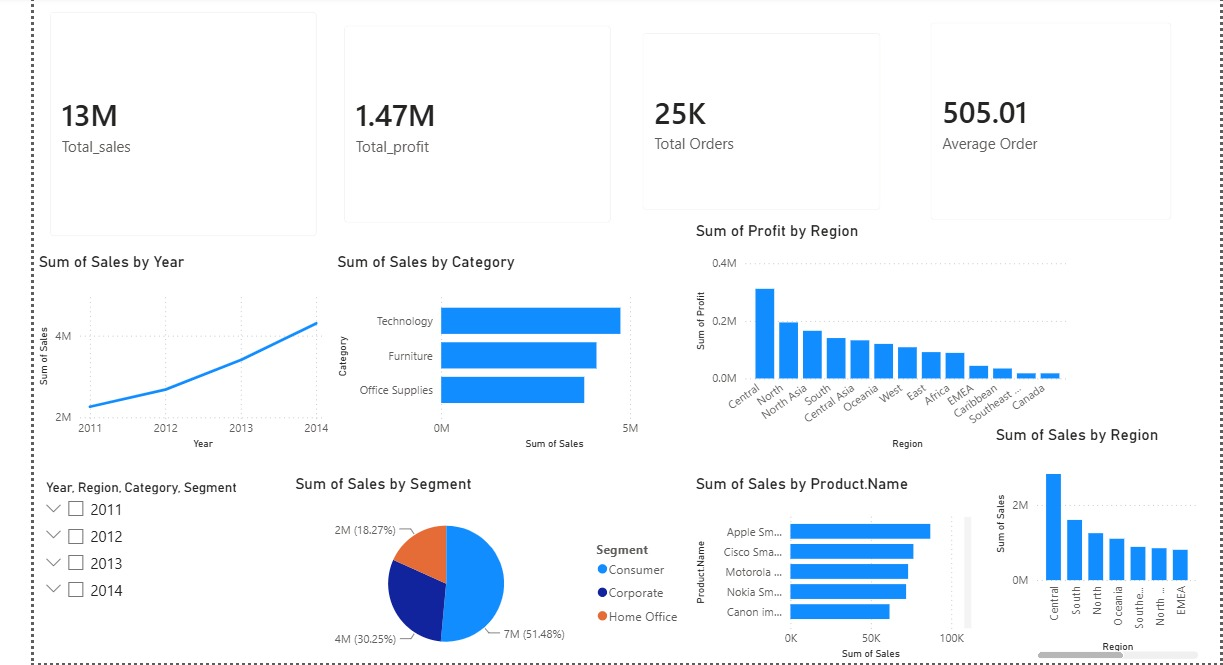

The page's visual inventory and layout, read from the dashboard file:
{"tool":"powerbi","page":{"name":"Page 1","canvas":[1280,720],"ordinal":0},"visuals":[{"type":"cardVisual","fields":{"Data":["superstore.Total_sales"]},"box":[0,0,322.2,276.9],"z":1},{"type":"cardVisual","fields":{"Data":["superstore.Total_profit"]},"box":[317.4,14.6,322.2,247.7],"z":2},{"type":"cardVisual","fields":{"Data":["superstore.Average Order"]},"box":[950.5,11.3,294.7,247.7],"z":3},{"type":"cardVisual","fields":{"Data":["superstore.Total Orders"]},"box":[639.6,22.7,291.5,225.1],"z":4},{"type":"lineChart","fields":{"Category":["superstore.Order.Date.Variation.Date Hierarchy.Year","superstore.Order.Date.Variation.Date Hierarchy.Quarter","superstore.Order.Date.Variation.Date Hierarchy.Month","superstore.Order.Date.Variation.Date Hierarchy.Day"],"Y":["Sum(superstore.Sales)"]},"box":[0,276.9,322.2,217],"z":5},{"type":"clusteredBarChart","fields":{"Category":["superstore.Category"],"Y":["Sum(superstore.Sales)"]},"box":[322.2,276.9,375.7,217],"z":6},{"type":"clusteredColumnChart","fields":{"Category":["superstore.Region"],"Y":["Sum(superstore.Profit)"]},"box":[709.2,242.9,412.9,251],"z":7},{"type":"pieChart","fields":{"Category":["superstore.Segment"],"Y":["Sum(superstore.Sales)"]},"box":[276.9,516.5,432.3,204],"z":8},{"type":"slicer","fields":{"Values":["superstore.Year","superstore.Region","superstore.Category","superstore.Segment"]},"box":[0,516.5,254.2,192.7],"z":9},{"type":"barChart","fields":{"Category":["superstore.Product.Name"],"Y":["Sum(superstore.Sales)"]},"box":[709.2,516.5,307.7,204],"z":10},{"type":"columnChart","fields":{"Category":["superstore.Region"],"Y":["Sum(superstore.Sales)"]},"box":[1033.1,463.1,228.3,257.5],"z":11}]}

Visuals, with their boxes on the page's 1280x720 design canvas (x1, y1, x2, y2). These are canvas units, not pixel positions in the 1223x665 screenshot, which may show the page scaled, cropped or inside an application window:
cardVisual - superstore.Total_sales: Rect(0, 0, 322, 277)
cardVisual - superstore.Total_profit: Rect(317, 15, 640, 262)
cardVisual - superstore.Average Order: Rect(950, 11, 1245, 259)
cardVisual - superstore.Total Orders: Rect(640, 23, 931, 248)
lineChart - superstore.Order.Date.Variation.Date Hierarchy.Year x superstore.Order.Date.Variation.Date Hierarchy.Quarter: Rect(0, 277, 322, 494)
clusteredBarChart - superstore.Category x Sum(superstore.Sales): Rect(322, 277, 698, 494)
clusteredColumnChart - superstore.Region x Sum(superstore.Profit): Rect(709, 243, 1122, 494)
pieChart - superstore.Segment x Sum(superstore.Sales): Rect(277, 516, 709, 720)
slicer - superstore.Year x superstore.Region: Rect(0, 516, 254, 709)
barChart - superstore.Product.Name x Sum(superstore.Sales): Rect(709, 516, 1017, 720)
columnChart - superstore.Region x Sum(superstore.Sales): Rect(1033, 463, 1261, 721)
